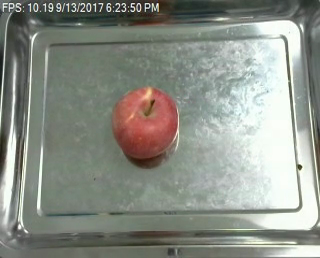Apple: (109, 80, 180, 164)
